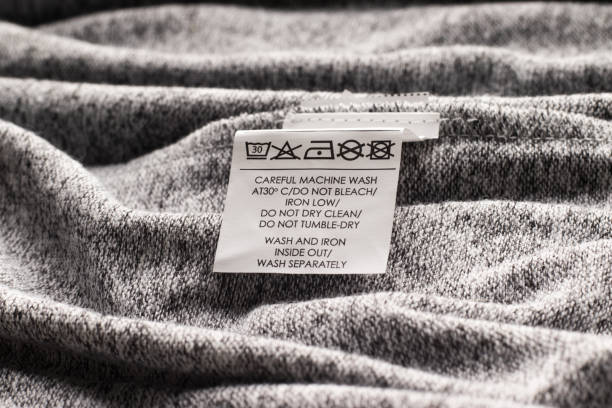ER_iron_low_temp: (303, 137, 336, 161)
ER_no_bleach: (271, 138, 303, 162)
ER_no_dry_clean: (335, 137, 367, 163)
ER_no_tumble_dry: (366, 137, 397, 161)
ER_wash_30_mild: (243, 139, 273, 160)
